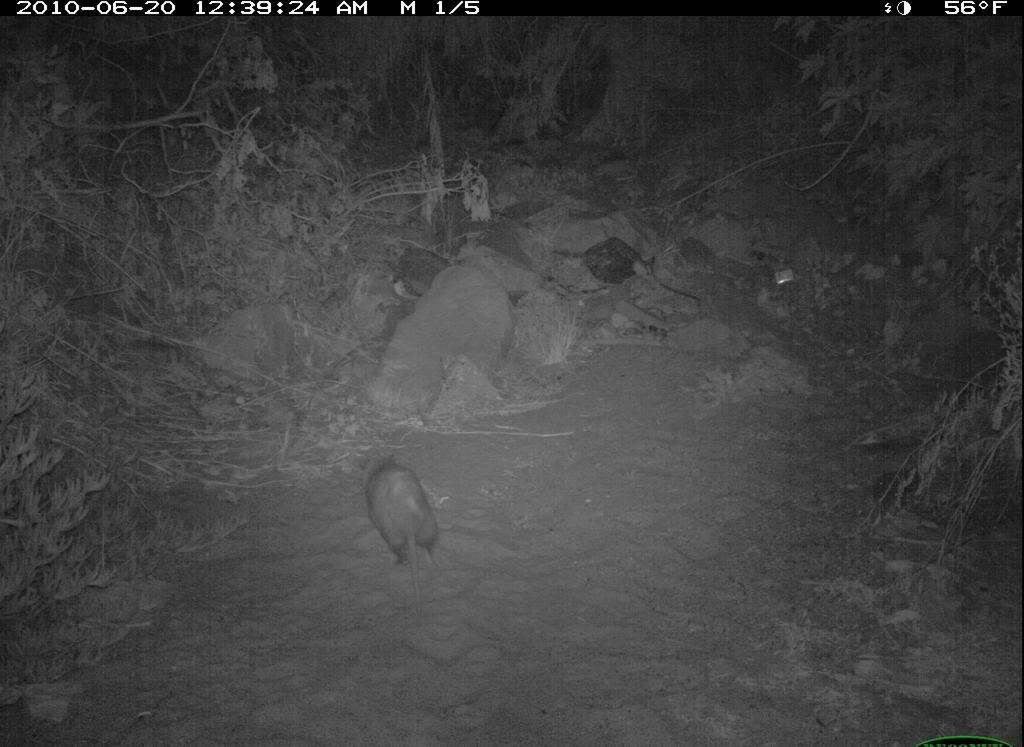opossum: (328, 426, 495, 582)
